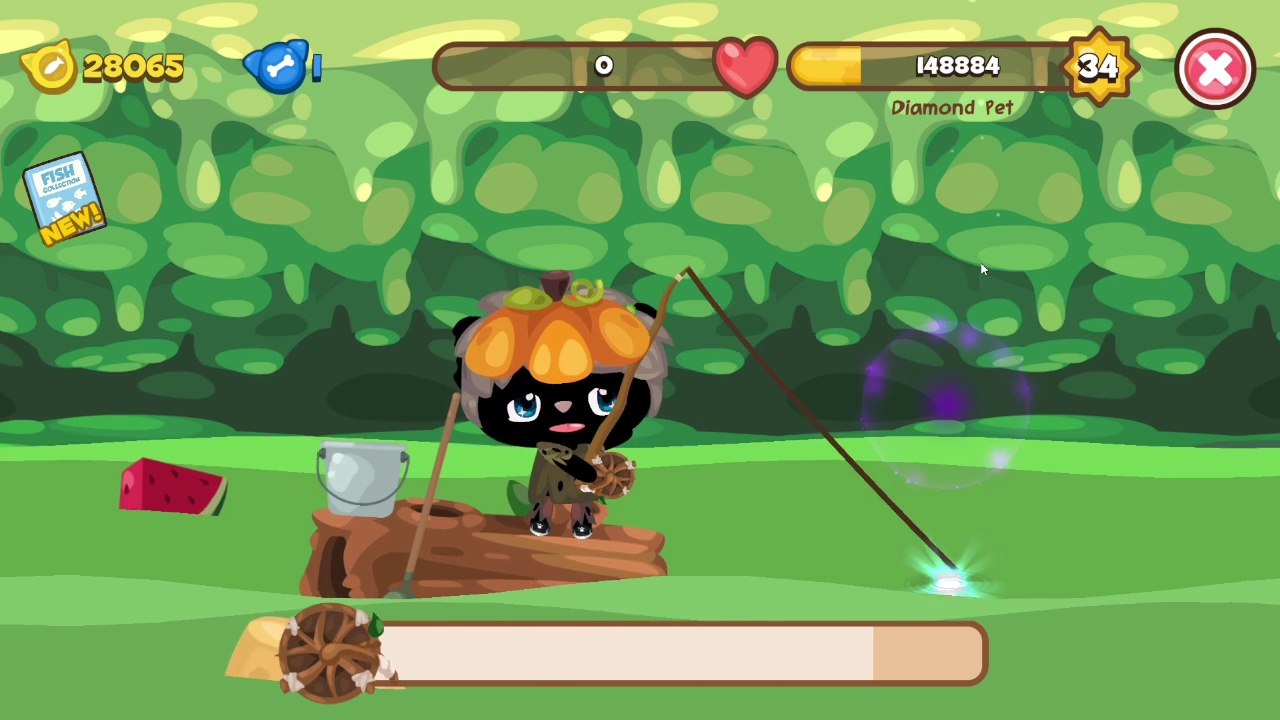point: (859, 320, 1031, 488)
